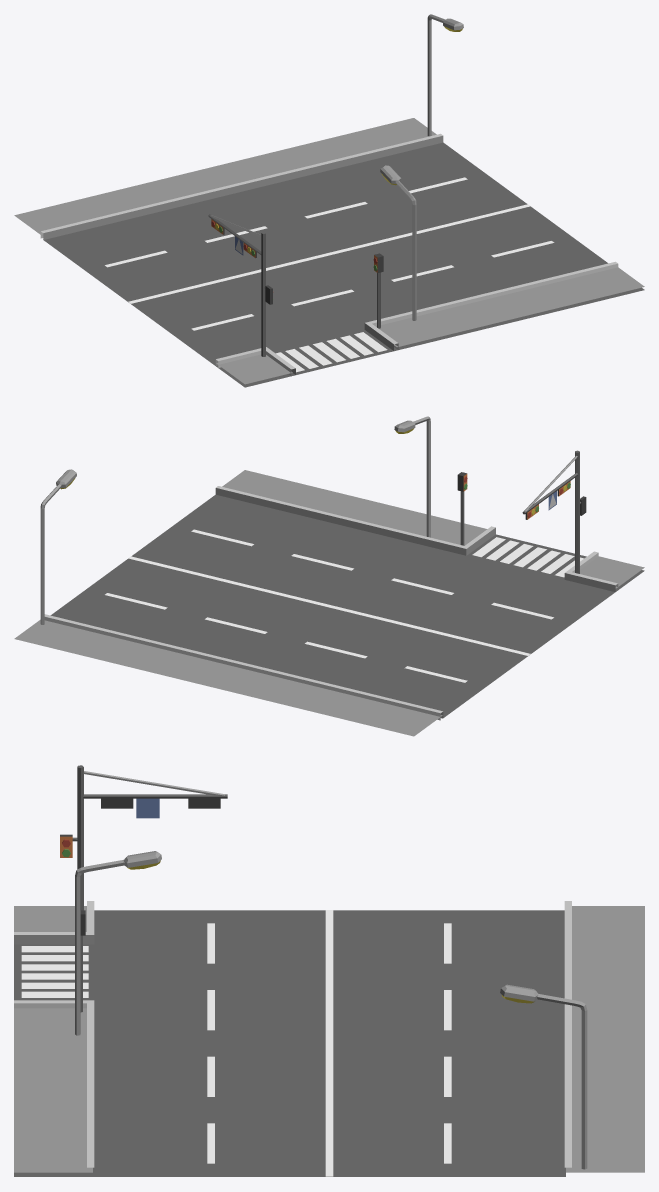
Rendered from road_tile_2x2_001.glb.
The picture shows the model from 3 angles, top to bottom: view 1: azimuth 30°, elevation 25°; view 2: azimuth 150°, elevation 25°; view 3: azimuth 270°, elevation 25°; orthographic projection. The views are drawn at different scales.
Parts seen in each view (by area): view 1: road_tile_2x2_001; view 2: road_tile_2x2_001; view 3: road_tile_2x2_001.
Boxes of the visible parts, x1=… form: road_tile_2x2_001: x1=14, y1=14, x2=644, y2=387; road_tile_2x2_001: x1=14, y1=416, x2=644, y2=736; road_tile_2x2_001: x1=14, y1=765, x2=644, y2=1176.
Bounding box in the file's own units: 16 × 5.25 × 16.
Materials: 1 (1 with a texture image).
